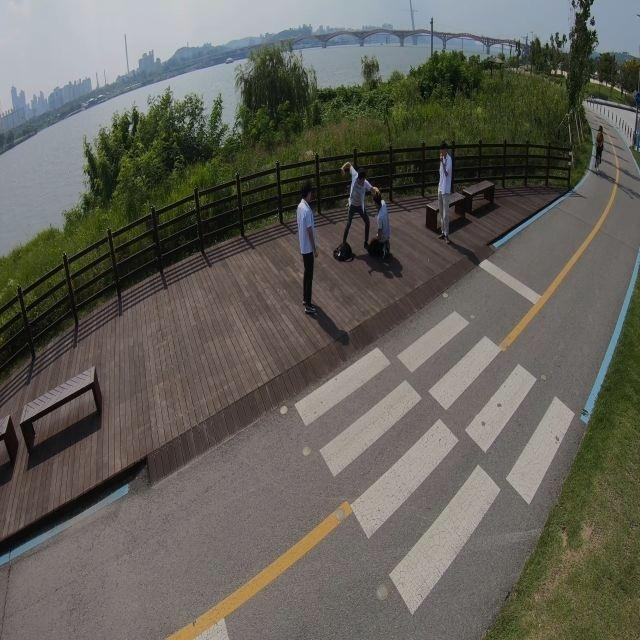fight: (335, 159, 392, 266)
non-fight: (296, 188, 320, 313), (435, 141, 452, 242)
